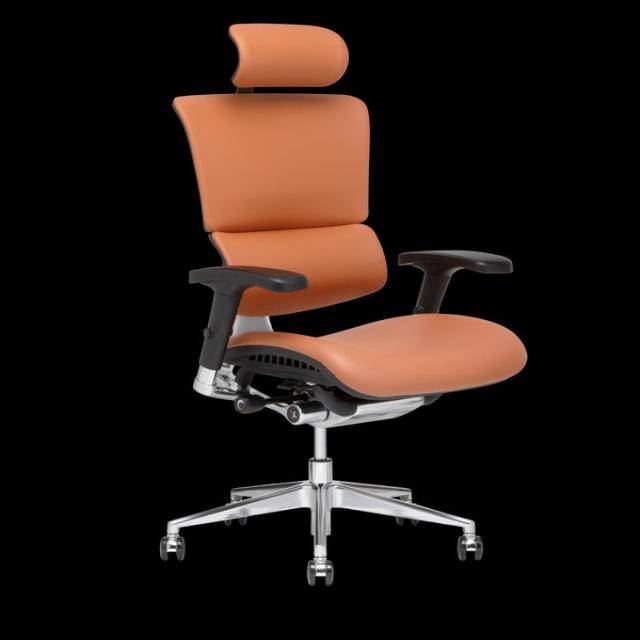chair: (89, 9, 630, 640)
